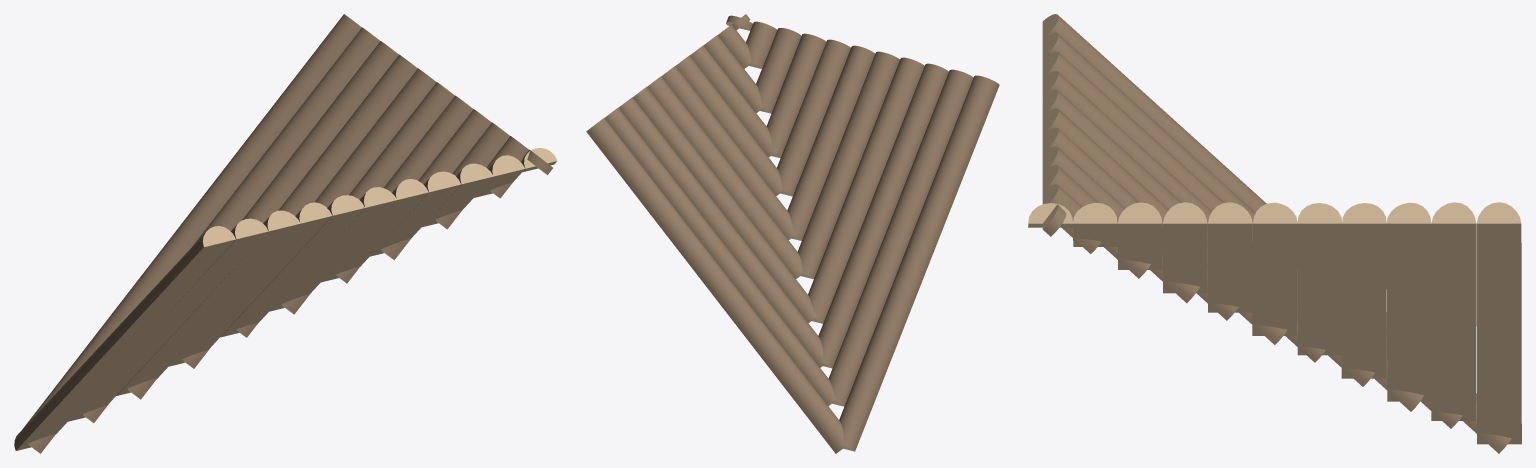
Rendered from log_roof_inner_steep.glb.
3 renders of one model, left to right at view 1: azimuth 30°, elevation 25°; view 2: azimuth 150°, elevation 25°; view 3: azimuth 270°, elevation 25°, orthographic. The views are drawn at different scales.
Visible parts, largest first — view 1: Roof; view 2: Roof; view 3: Roof.
Part boxes in pixels (x1,y1,x2,y2): Roof: (14, 14, 557, 453); Roof: (586, 14, 999, 453); Roof: (1028, 14, 1521, 453).
Size of the model in its own units: 3.08 by 2.95 by 3.08.
